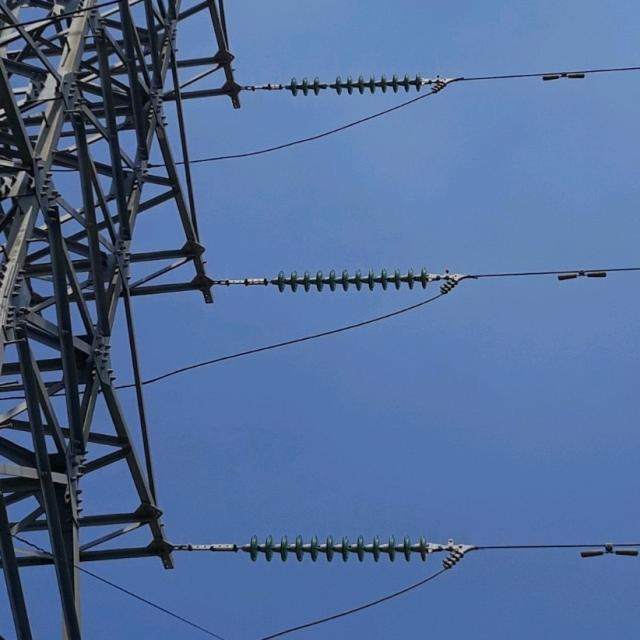杆塔: (0, 0, 241, 640)
正常绝缘子: (199, 527, 455, 570), (256, 269, 451, 293), (277, 74, 437, 97)
绝缘子破损: (322, 79, 336, 94)
